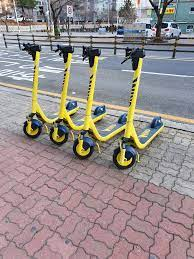kick_handler: (123, 48, 145, 68), (83, 45, 102, 61), (22, 42, 41, 56), (55, 47, 74, 56)
kick_neck: (127, 66, 142, 129), (61, 62, 70, 111), (32, 59, 41, 107), (87, 66, 94, 124)
kick_wheel: (113, 145, 138, 167), (73, 135, 94, 159), (49, 127, 69, 145), (23, 120, 41, 137)
